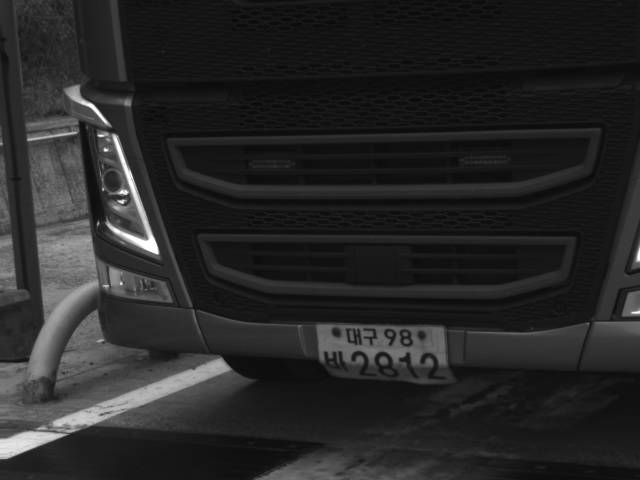car: (61, 1, 639, 392)
plate: (315, 323, 457, 387)
